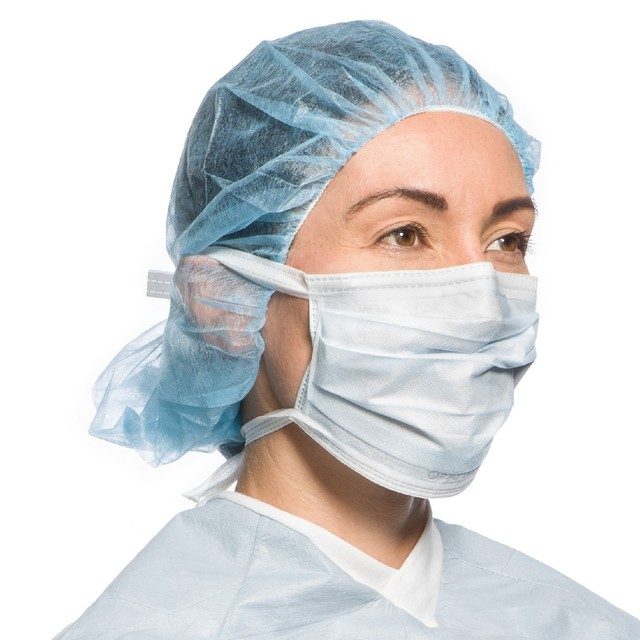mask: (301, 273, 547, 505)
